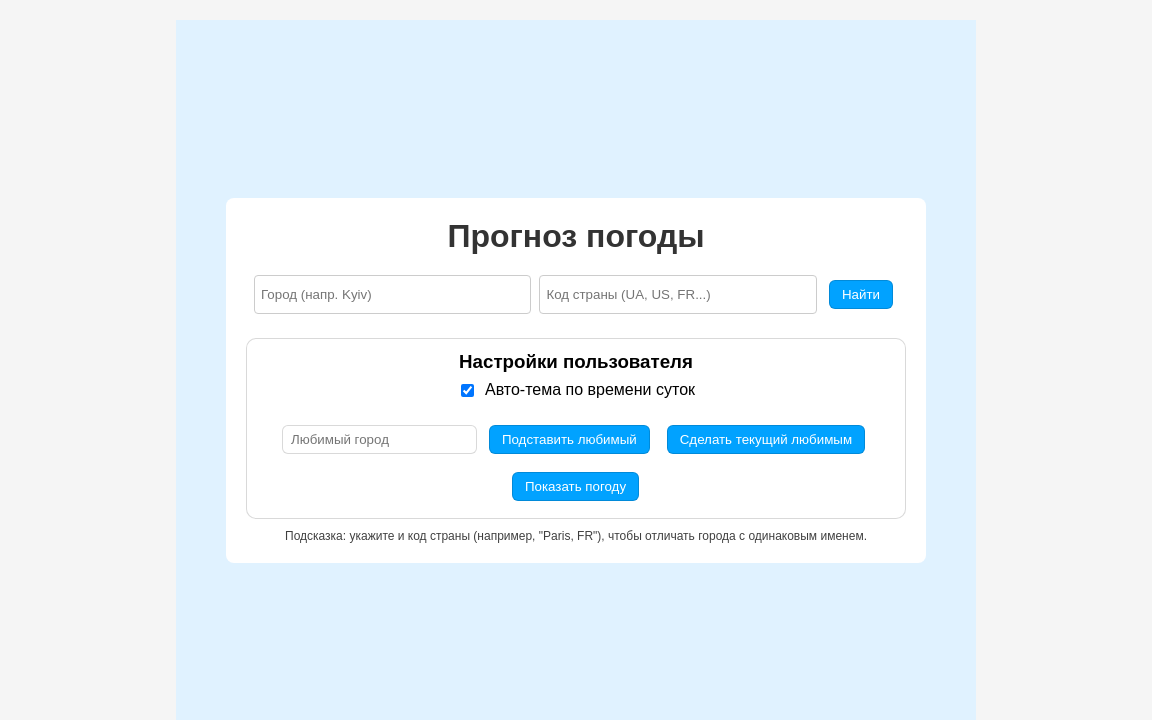
Scenario: WeatherApp component › можна встановити улюблений город
Type "Lviv" into the field with placeholder "Любимый город" at [379, 439], box top-left (282, 424), bottom-right (477, 454)
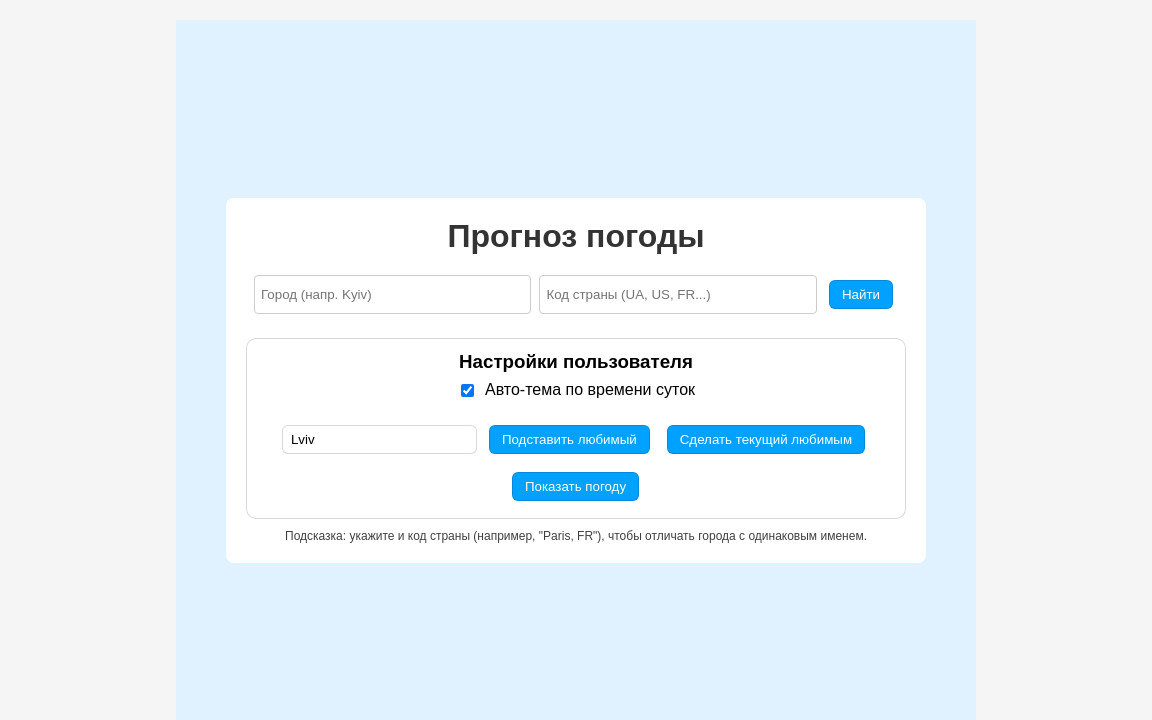
Click the button "Подставить любимый" at [569, 439], box top-left (489, 424), bottom-right (650, 454)
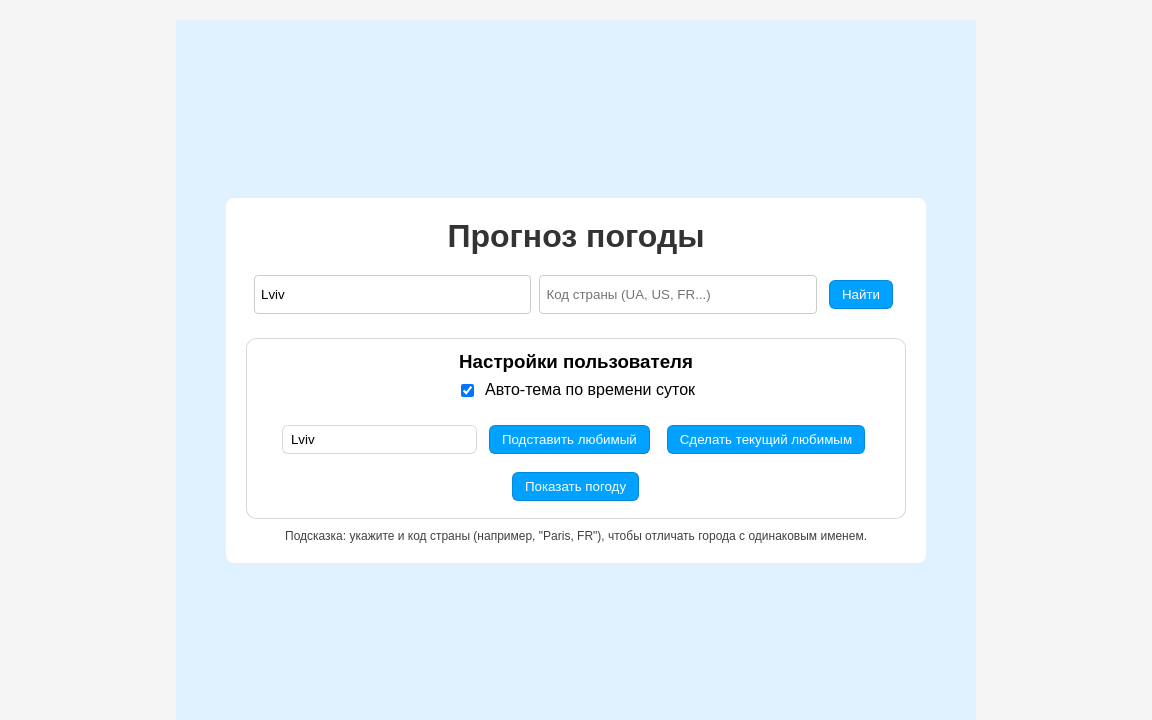
Expected: the 1st field with placeholder "Город (напр. Kyiv)" holds "Lviv", top-left (254, 274), bottom-right (532, 314)
